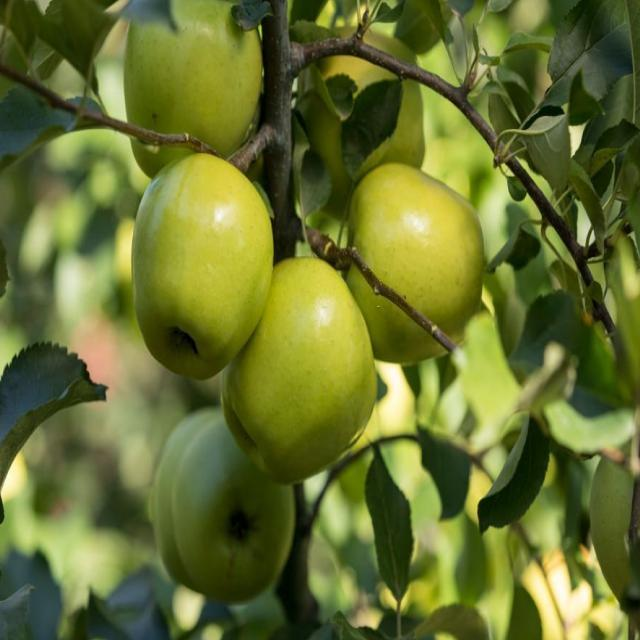Green Apple: (142, 140, 279, 358), (250, 240, 378, 473), (362, 156, 481, 343), (311, 20, 435, 195), (185, 414, 298, 604), (134, 1, 260, 162), (156, 403, 228, 582), (594, 452, 640, 610)
